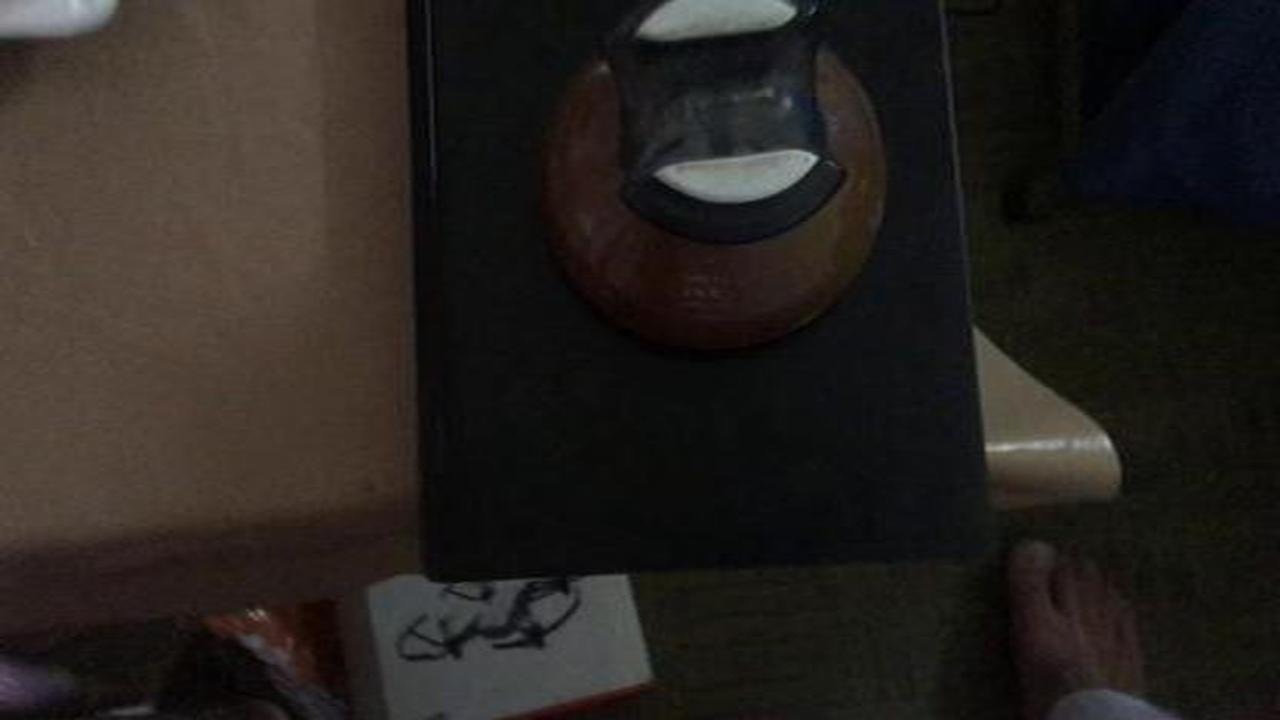insulator_pin: (517, 2, 911, 357)
